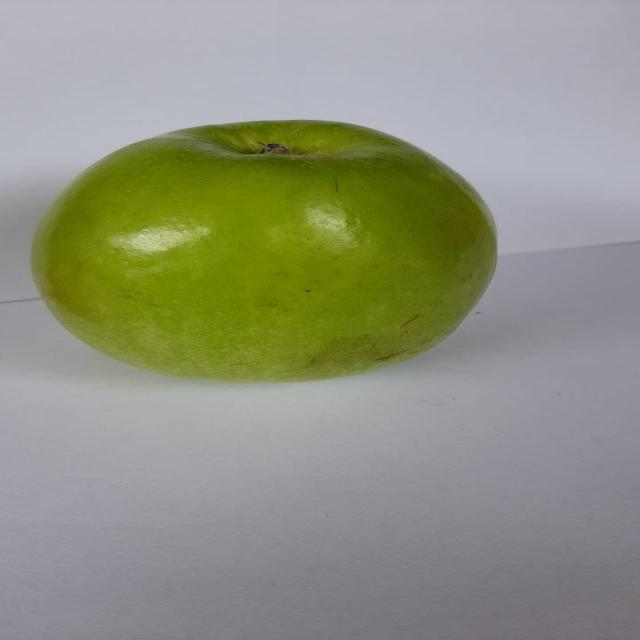50-_ripeness: (34, 110, 506, 388)
